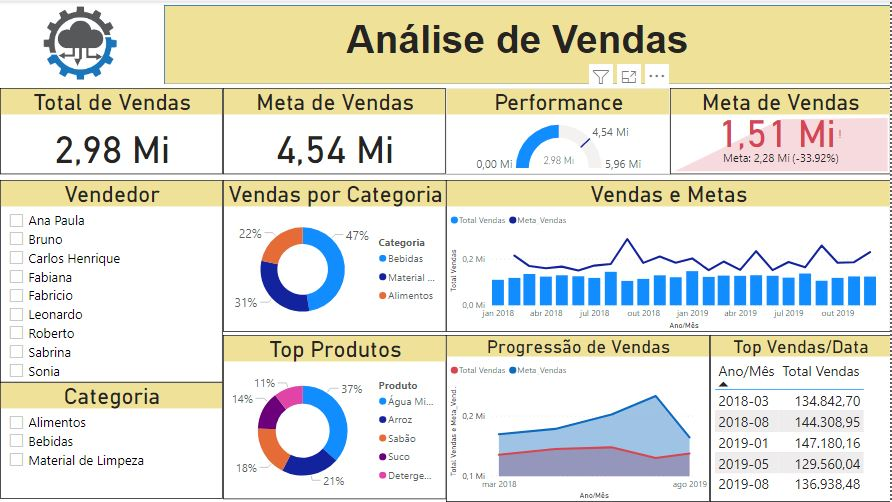

This screenshot's page, from the dashboard's own definition file:
{"tool":"powerbi","page":{"name":"Página 1","canvas":[1280,720],"ordinal":0},"visuals":[{"type":"image","box":[39.4,3.6,152.2,114.6],"z":0},{"type":"shape","box":[235.2,5.8,1044.6,114],"z":1000},{"type":"textbox","box":[397.4,17.9,691,82.3],"z":2000},{"type":"card","title":"Total de Vendas","fields":{"Values":["Medidas.Total Vendas"]},"box":[0,125.7,320.4,123.5],"z":3000},{"type":"card","title":"Meta de Vendas","fields":{"Values":["F-Metas.Meta_Vendas"]},"box":[320.4,125.7,320.4,123.5],"z":4000},{"type":"gauge","title":"Performance","fields":{"Y":["Medidas.Total Vendas"],"TargetValue":["F-Metas.Meta_Vendas"]},"box":[640.9,125.7,322.2,123.5],"z":5000},{"type":"kpi","title":"Meta de Vendas","fields":{"Goal":["F-Metas.Meta_Vendas"],"Indicator":["Medidas.Total Vendas"],"TrendLine":["D-TEMPO-DINAMICA.Ano"]},"box":[963.1,125.7,316.9,123.5],"z":6000},{"type":"slicer","title":"Vendedor","fields":{"Values":["D-Vendedor.Nome_Vendedor"]},"box":[0,256.8,320,291.2],"z":7000},{"type":"slicer","title":"Categoria","fields":{"Values":["D-Categoria.Nome_Categoria"]},"box":[0,548,320,167.6],"z":8000},{"type":"donutChart","title":"Vendas por Categoria","fields":{"Category":["D-Categoria.Nome_Categoria"],"Y":["Medidas.Total Vendas"]},"box":[320,256.8,321.4,218.4],"z":9000},{"type":"donutChart","title":"Top Produtos","fields":{"Y":["Medidas.Total Vendas"],"Category":["D-Produto.Nome_produto"]},"box":[320,479.3,321.4,236.2],"z":10000},{"type":"lineClusteredColumnComboChart","title":"Vendas e Metas","fields":{"Y":["Medidas.Total Vendas"],"Y2":["F-Metas.Meta_Vendas"],"Category":["D-TEMPO-DINAMICA.Ano/Mês"]},"box":[641.4,256.8,638.6,218.4],"z":11000},{"type":"tableEx","title":"Top Vendas/Data","fields":{"Values":["D-TEMPO-DINAMICA.Ano/Mês","Medidas.Total Vendas"]},"box":[1020.4,479.3,259.6,240.3],"z":12000},{"type":"areaChart","title":"Progressão de Vendas","fields":{"Category":["D-TEMPO-DINAMICA.Ano/Mês"],"Y":["Medidas.Total Vendas","F-Metas.Meta_Vendas"]},"box":[641.4,479.3,379.1,240.3],"z":13000}]}

Visuals, with their boxes in screenshot pixels (x1, y1, x2, y2), scaled from the page's 1280x720 canvas onto the 892x502 screenshot:
image: crop(27, 3, 134, 82)
shape: crop(164, 4, 891, 84)
textbox: crop(277, 12, 758, 70)
"Total de Vendas" card: crop(0, 88, 223, 174)
"Meta de Vendas" card: crop(223, 88, 447, 174)
"Performance" gauge: crop(447, 88, 671, 174)
"Meta de Vendas" kpi: crop(671, 88, 891, 174)
"Vendedor" slicer: crop(0, 179, 223, 382)
"Categoria" slicer: crop(0, 382, 223, 499)
"Vendas por Categoria" donutChart: crop(223, 179, 447, 331)
"Top Produtos" donutChart: crop(223, 334, 447, 499)
"Vendas e Metas" lineClusteredColumnComboChart: crop(447, 179, 891, 331)
"Top Vendas/Data" tableEx: crop(711, 334, 891, 501)
"Progressão de Vendas" areaChart: crop(447, 334, 711, 501)
